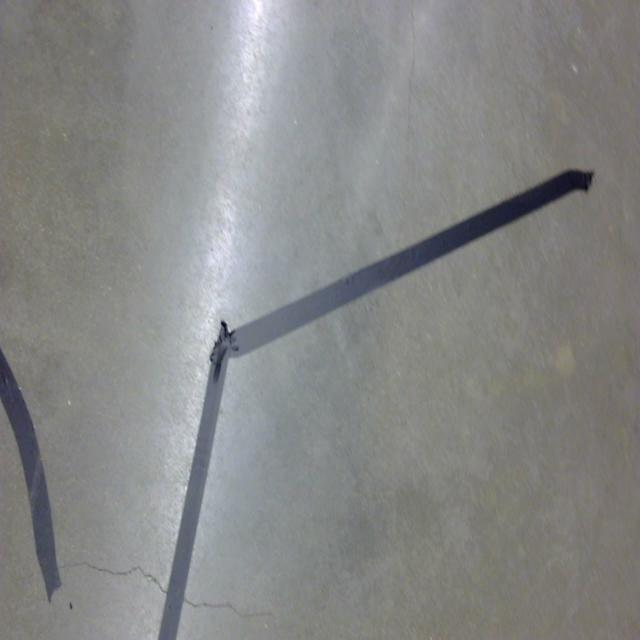tape: (158, 170, 596, 640), (0, 347, 63, 600)
